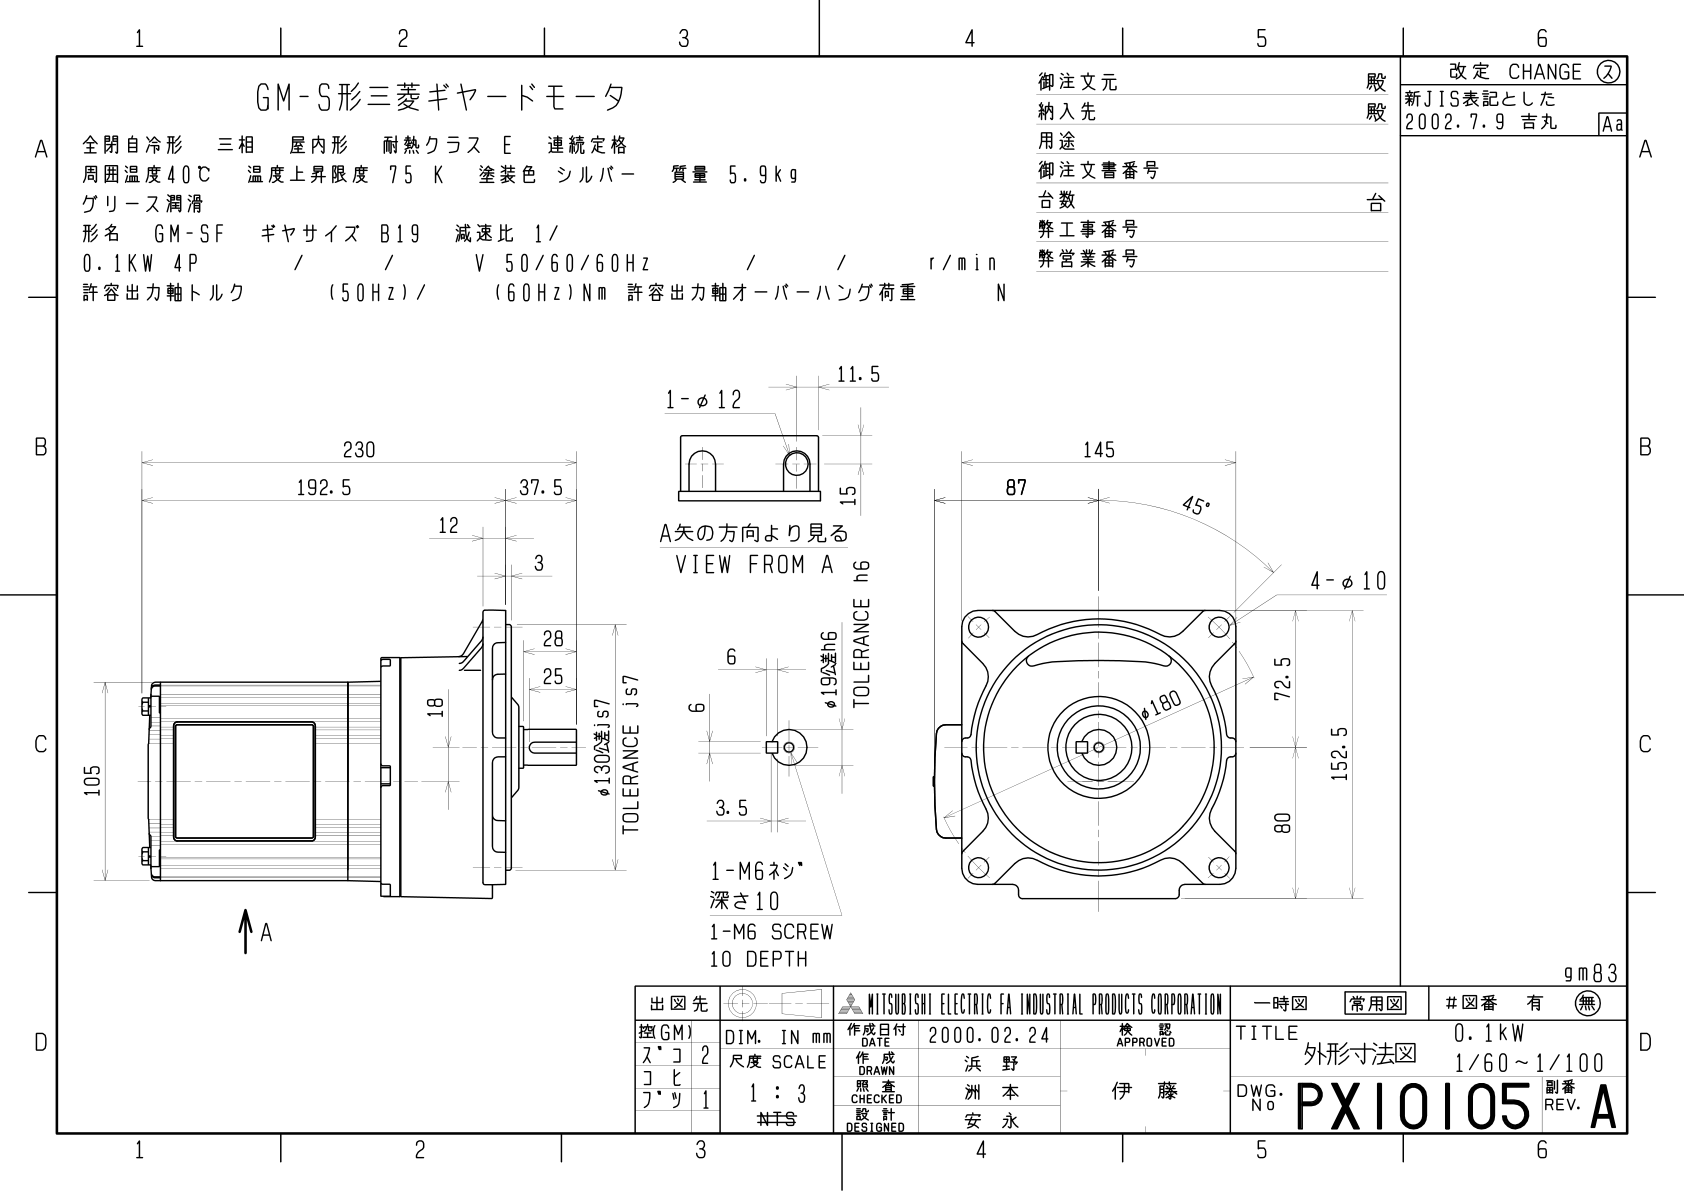GM_S_屋内＿三相_フランジ: (12, 13, 1684, 1191)
